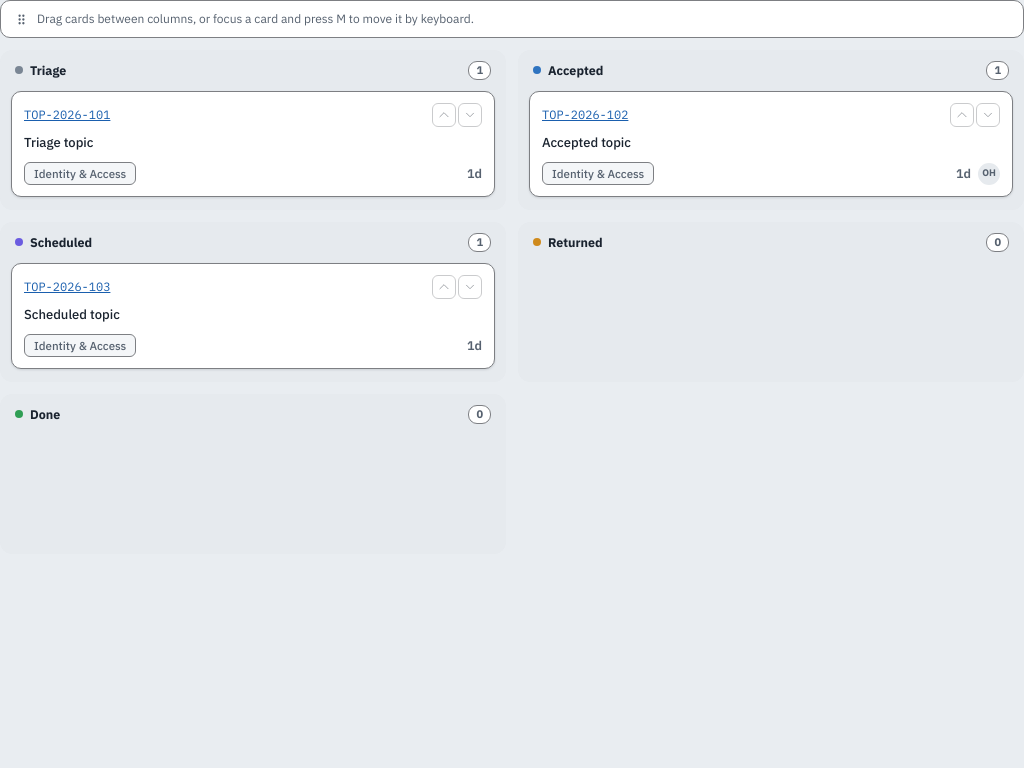
Kanban (P5b) › surfaces a failed Returned transition instead of failing silently
This screenshot has width=1024, height=768.
Press M in the element "TOP-2026-101 Triage topic Identity & Access 1d", box top-left (11, 91), bottom-right (495, 197)
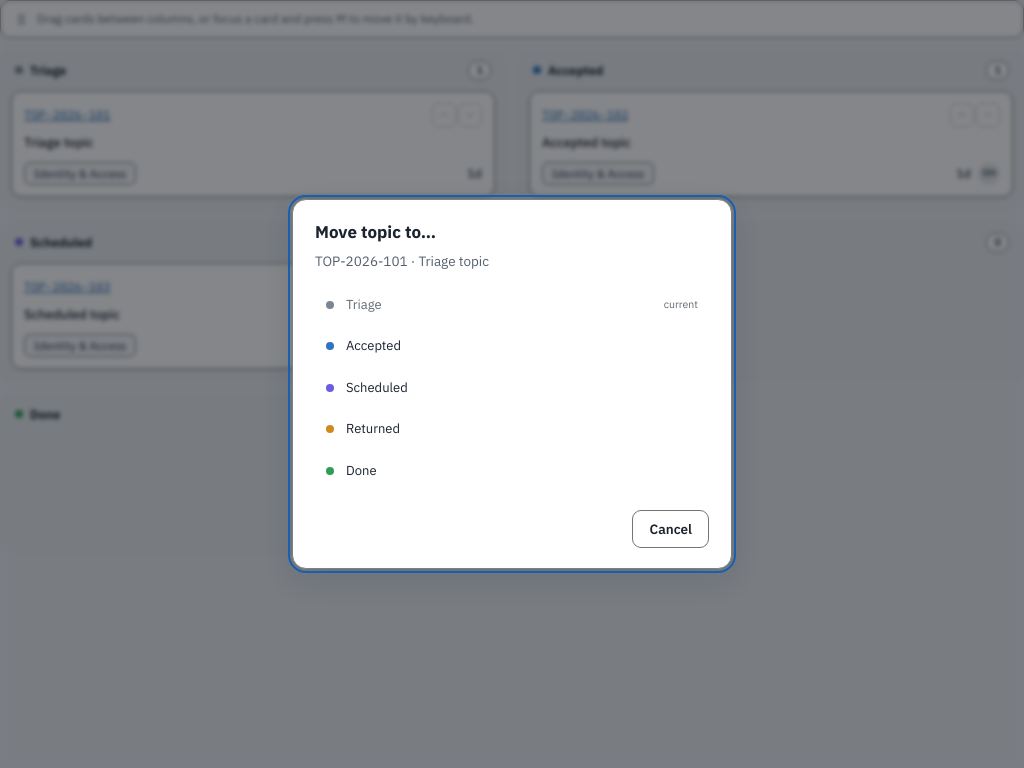
Click the button "Returned": (373, 429) top-left (315, 409), bottom-right (709, 449)
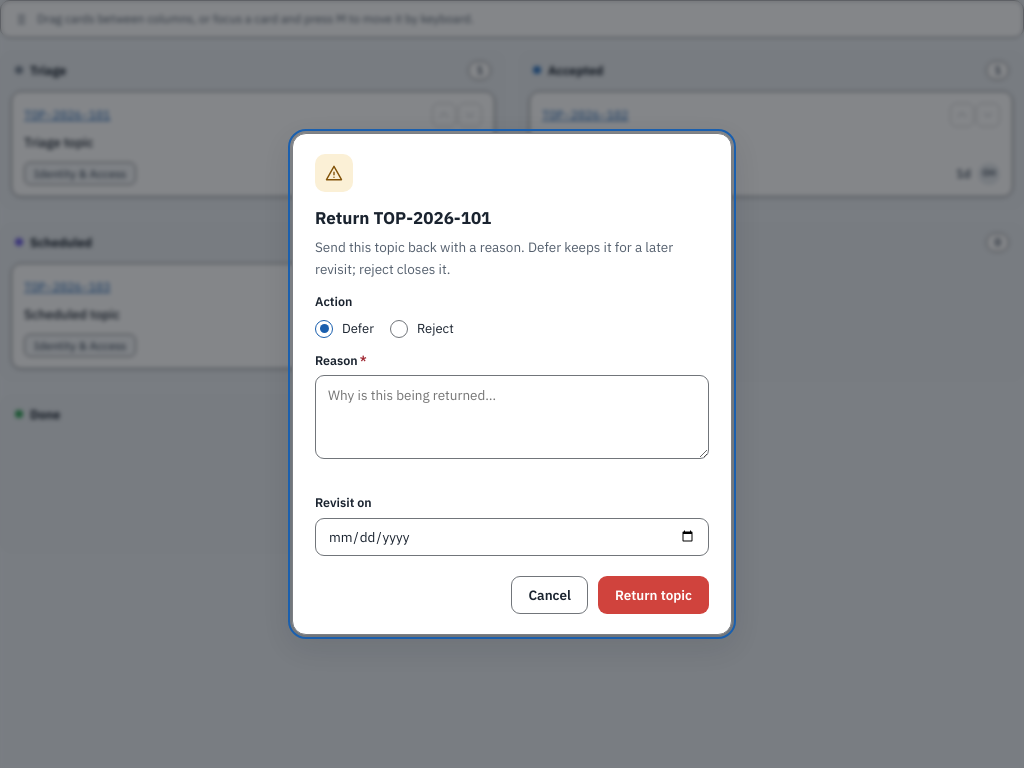
In the text box labelled "Reason*": (512, 418) top-left (315, 376), bottom-right (709, 460), type "why"
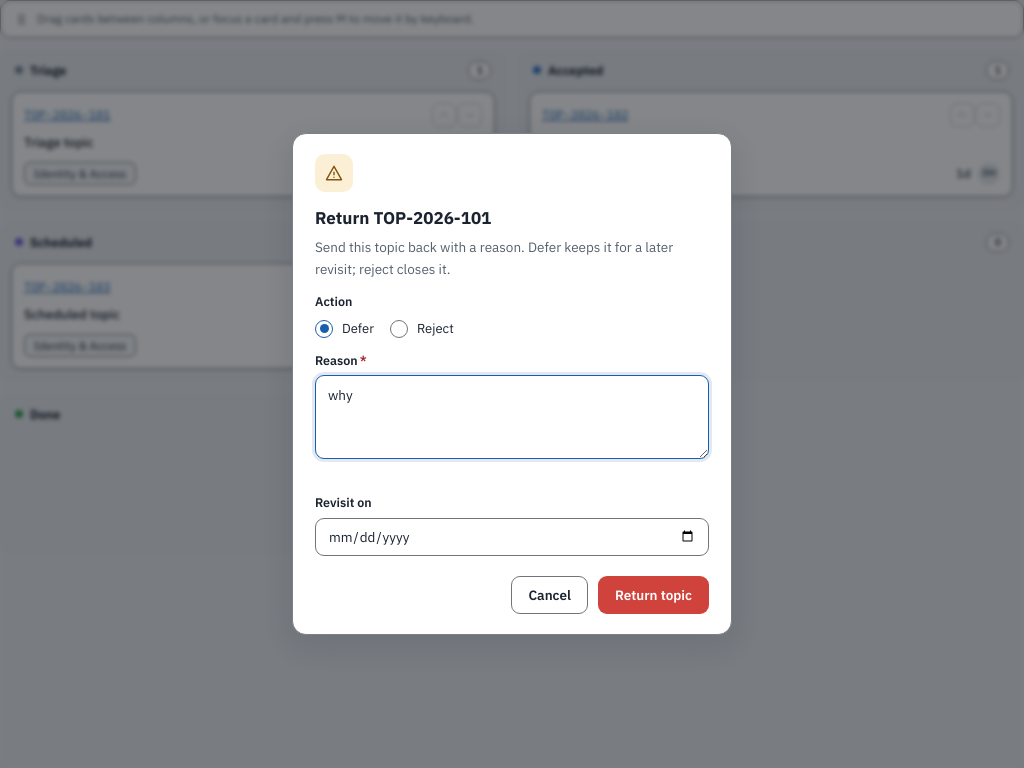
Click the button "Return topic": (654, 595) top-left (598, 576), bottom-right (709, 614)
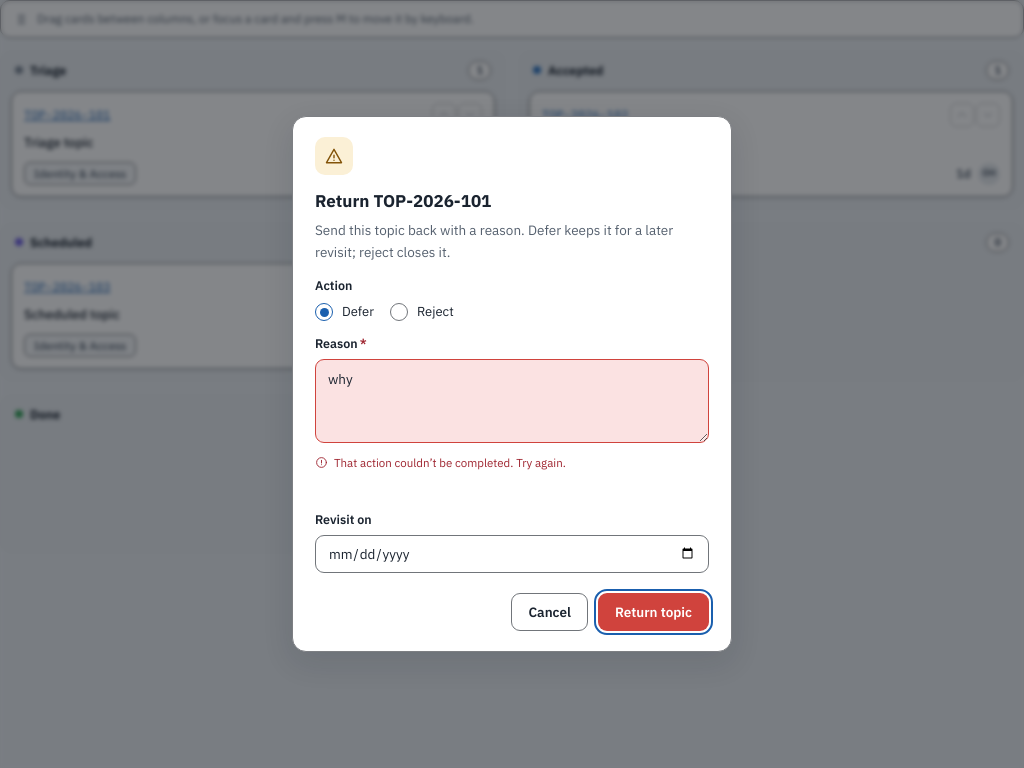
Result: the message "That action couldn’t be completed. Try again." is shown at top-left (315, 455), bottom-right (566, 470)
